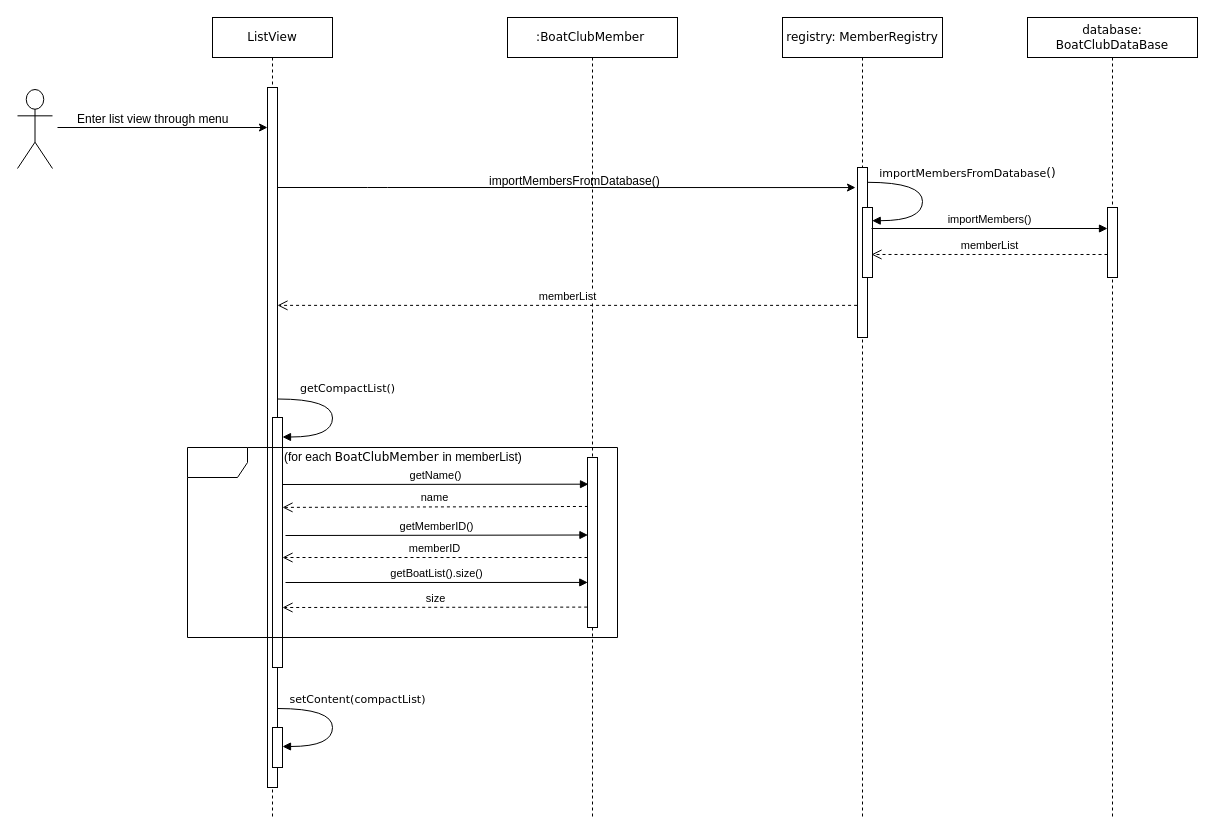
Some shapes in this 1215 by 835 pixel diagram are drawn without their labels. The centre of each missing label's shape, as x and y in pixels:
loop: the point at 402,542
User: the point at 34,128
